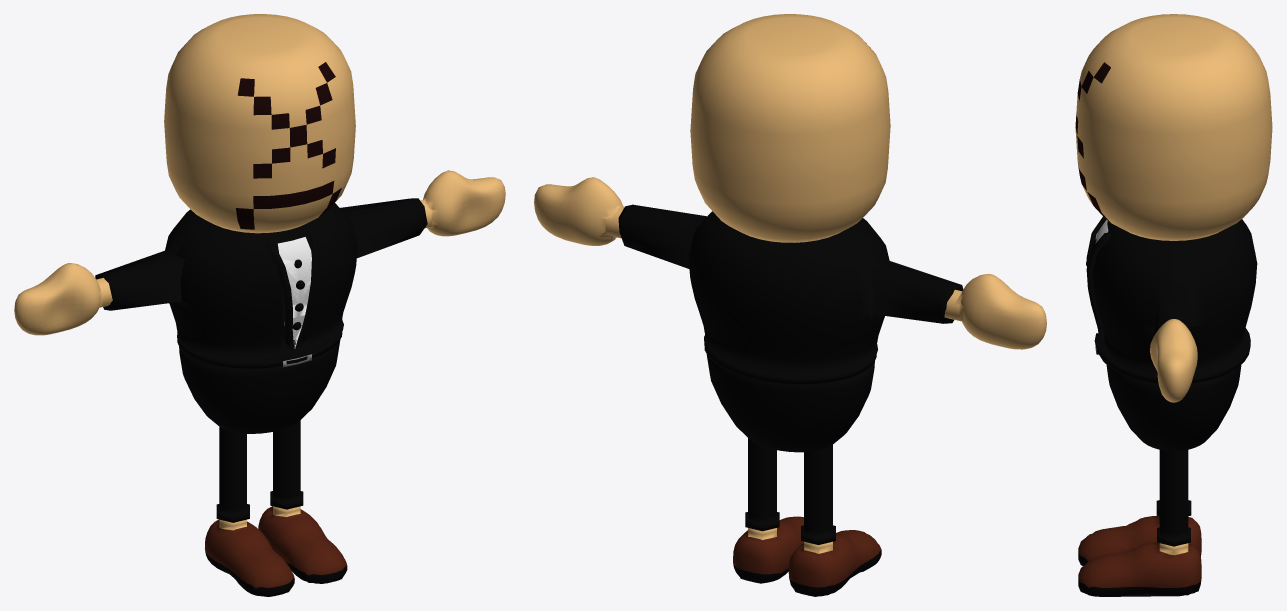
The model's file is Toon_Character - Copy.fbx.
3 renders of one model, left to right at view 1: azimuth 30°, elevation 25°; view 2: azimuth 150°, elevation 25°; view 3: azimuth 270°, elevation 25°, orthographic. The views are drawn at different scales.
Parts seen in each view (by area): view 1: Body, Head, Legs, Arms; view 2: Body, Head, Legs, Arms; view 3: Head, Body, Legs, Arms.
Part boxes in pixels (box(x1,y1,x2,y2)): Body: box(95, 198, 427, 433); Head: box(164, 14, 355, 233); Legs: box(205, 420, 347, 596); Arms: box(14, 170, 505, 335); Body: box(618, 204, 963, 452); Head: box(690, 14, 890, 242); Legs: box(733, 438, 881, 596); Arms: box(534, 177, 1046, 349); Head: box(1075, 14, 1272, 240); Body: box(1086, 216, 1257, 450); Legs: box(1078, 450, 1201, 596); Arms: box(1150, 319, 1197, 402).
Bounding box in the file's own units: 337 × 342 × 114.
